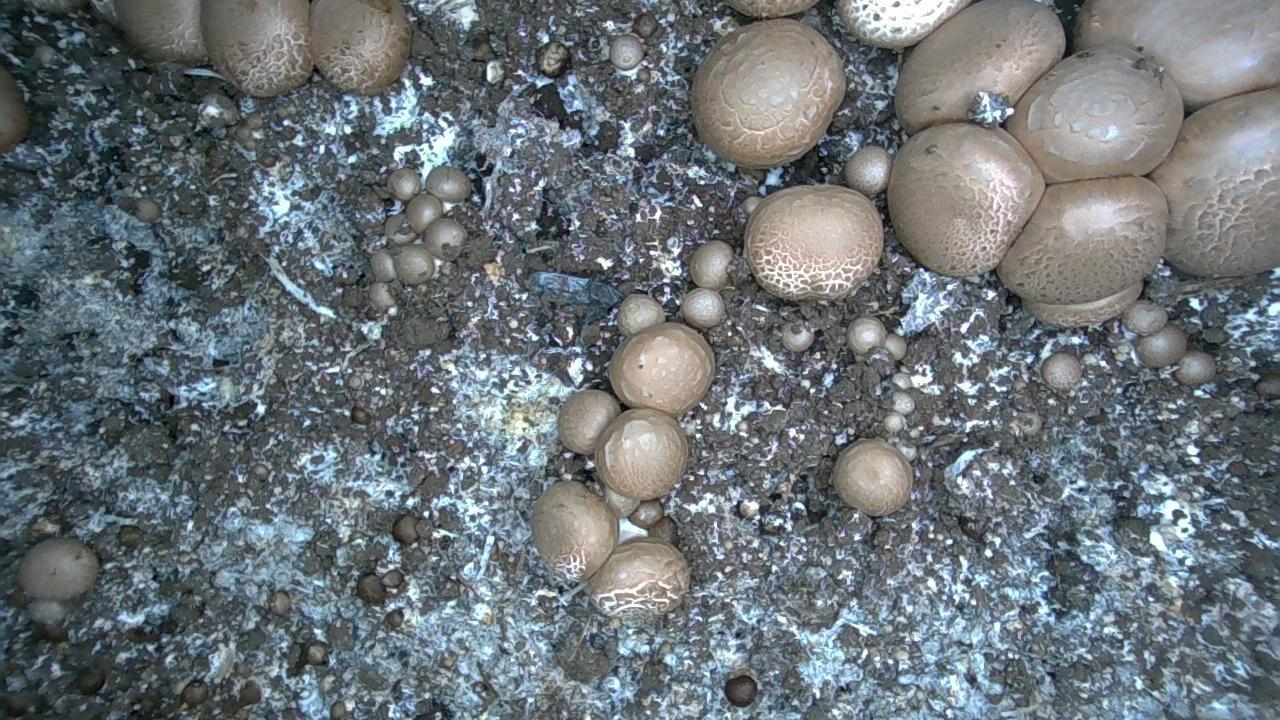BB: (1149, 87, 1280, 277), (1006, 45, 1184, 184), (887, 123, 1045, 277), (691, 18, 846, 169), (998, 177, 1168, 304), (744, 185, 884, 301), (609, 323, 715, 417), (594, 408, 688, 501), (532, 481, 618, 582), (588, 538, 690, 619), (836, 0, 971, 50), (833, 439, 913, 517), (113, 0, 207, 65), (1022, 280, 1143, 327), (18, 538, 99, 601), (558, 389, 621, 454), (844, 145, 892, 197), (690, 241, 733, 291), (1136, 326, 1187, 368), (617, 294, 665, 337), (423, 218, 468, 261), (425, 165, 472, 203), (725, 0, 818, 19), (682, 288, 725, 329), (394, 244, 436, 285), (1122, 300, 1168, 336), (1041, 352, 1083, 391), (846, 317, 887, 355), (406, 193, 443, 234), (1174, 351, 1216, 387), (27, 599, 68, 630), (609, 34, 644, 70), (387, 167, 421, 202), (724, 672, 758, 707), (782, 322, 814, 352), (370, 249, 397, 283), (884, 333, 907, 360)
